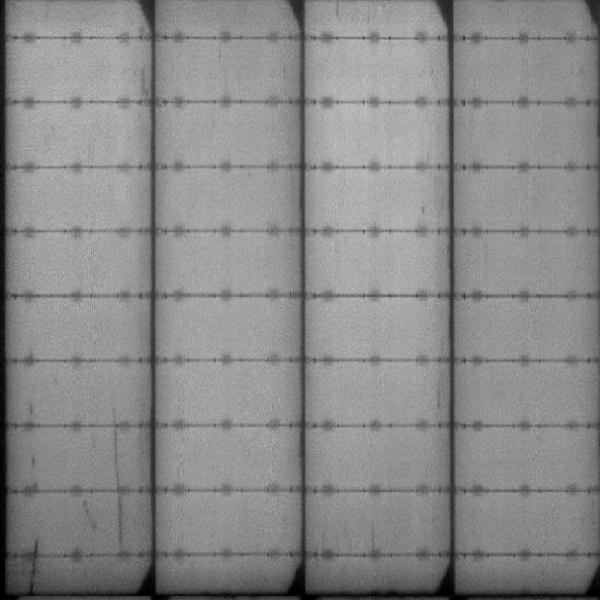scratch: (328, 1, 384, 23), (108, 494, 126, 544), (133, 59, 151, 101), (111, 429, 122, 491), (29, 541, 40, 600)
